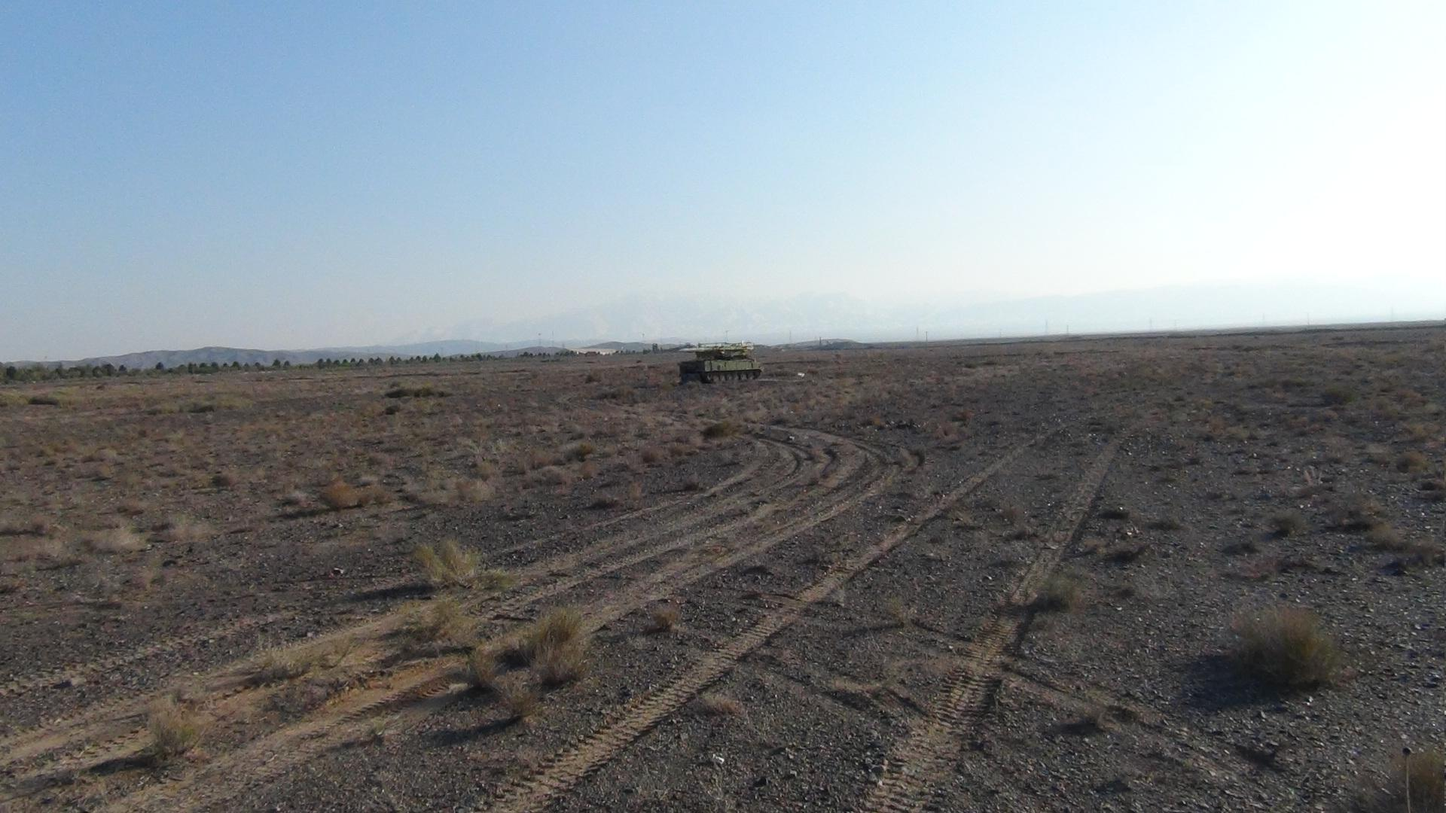armored_car: (678, 343, 763, 385)
